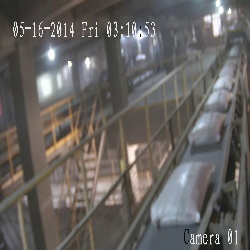cementbag: (150, 161, 215, 224), (188, 111, 226, 144), (204, 89, 232, 110), (213, 76, 235, 89), (218, 66, 235, 76)
